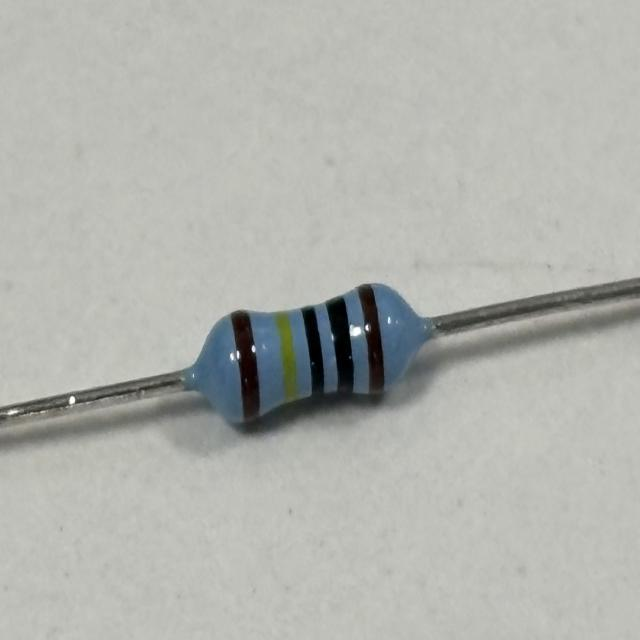resistor: (205, 280, 409, 430)
